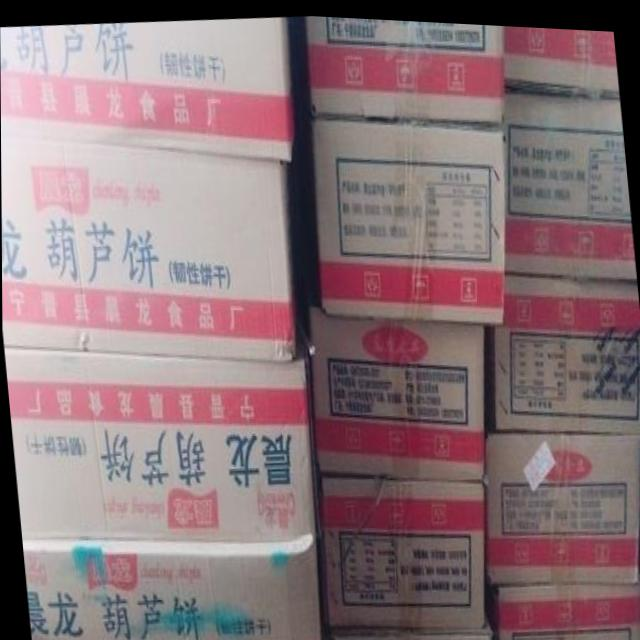box: (1, 128, 302, 353), (3, 328, 316, 538), (0, 13, 297, 157), (311, 115, 504, 318), (305, 282, 486, 477), (21, 533, 324, 640), (313, 473, 486, 631), (486, 267, 640, 428), (487, 425, 640, 578), (293, 12, 504, 119), (504, 121, 635, 276), (504, 21, 621, 126), (486, 573, 640, 640), (323, 621, 491, 640)
